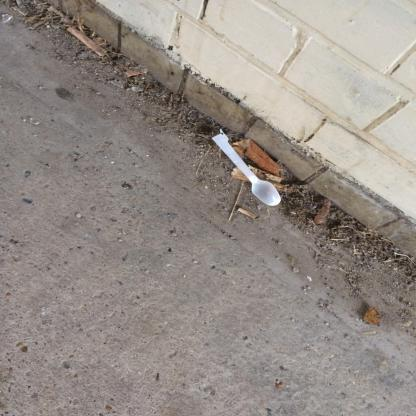plastik: (213, 135, 282, 207)
